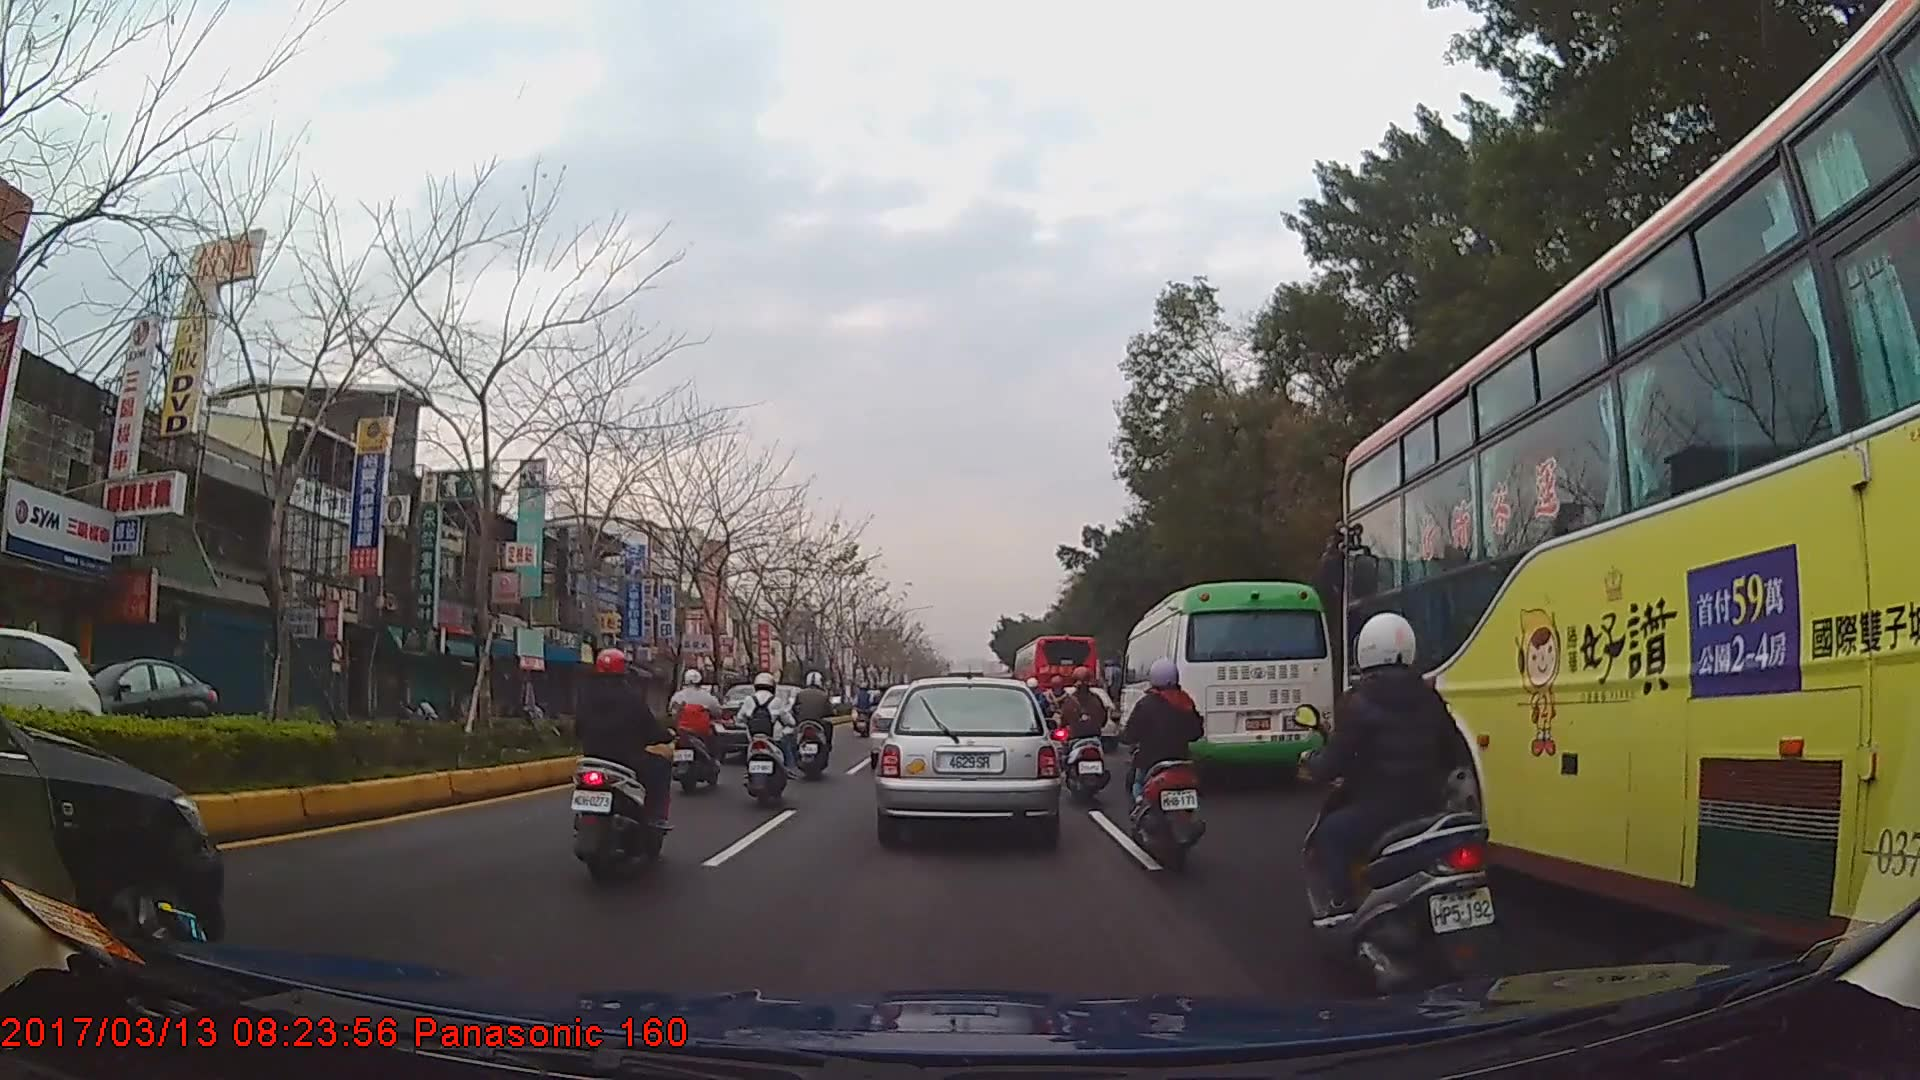rider: (1302, 609, 1504, 986), (568, 647, 673, 885), (1118, 655, 1208, 872), (667, 667, 726, 795), (739, 672, 794, 806), (1057, 666, 1108, 793), (793, 671, 836, 779), (855, 682, 877, 721)
vehicle: (1339, 0, 1920, 994), (1118, 581, 1334, 781), (878, 677, 1055, 839), (0, 624, 103, 770), (43, 652, 218, 735), (1013, 629, 1100, 734)
